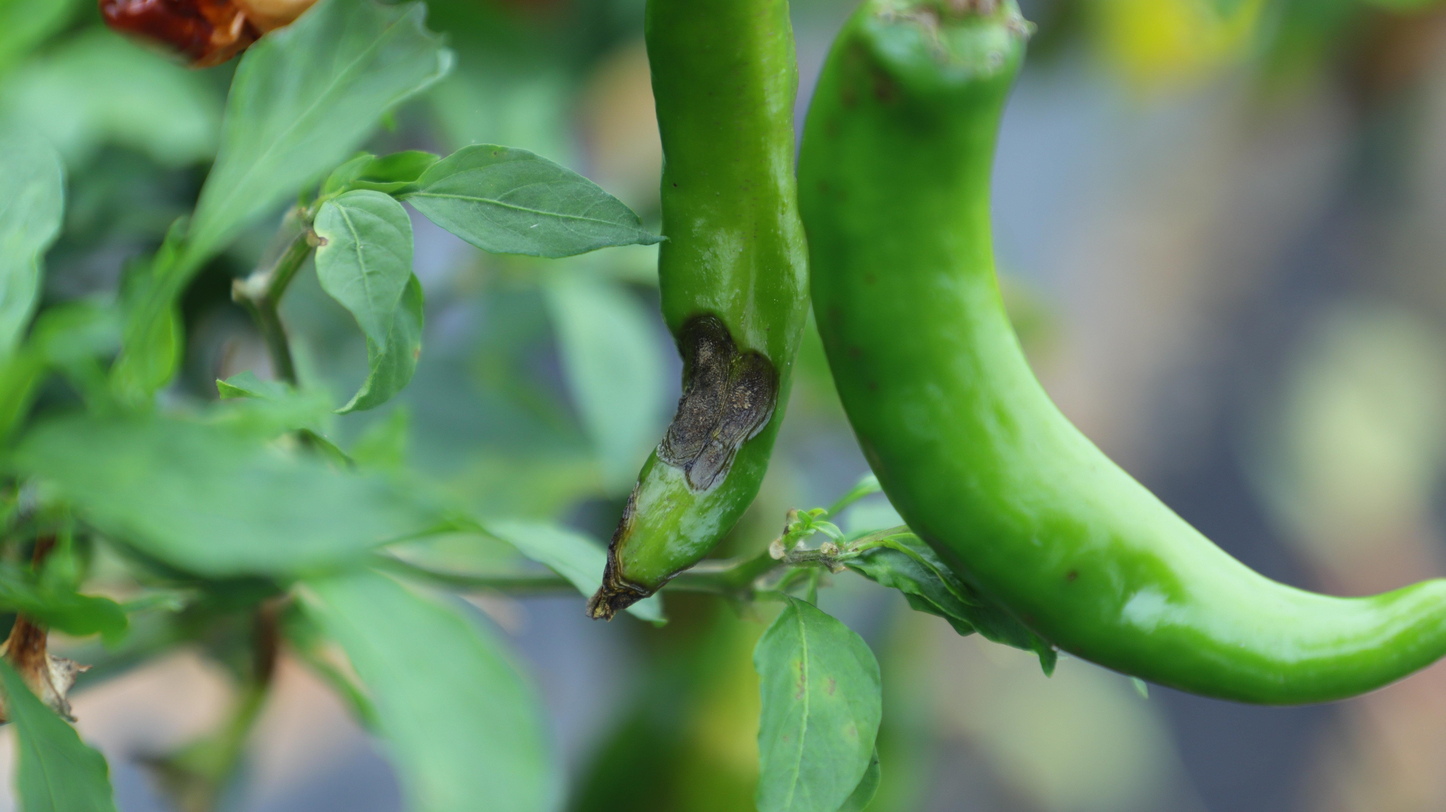Busuk Buah Antraknosa: (586, 0, 806, 631)
Daun Cabai Sehat: (793, 1, 1443, 708)
